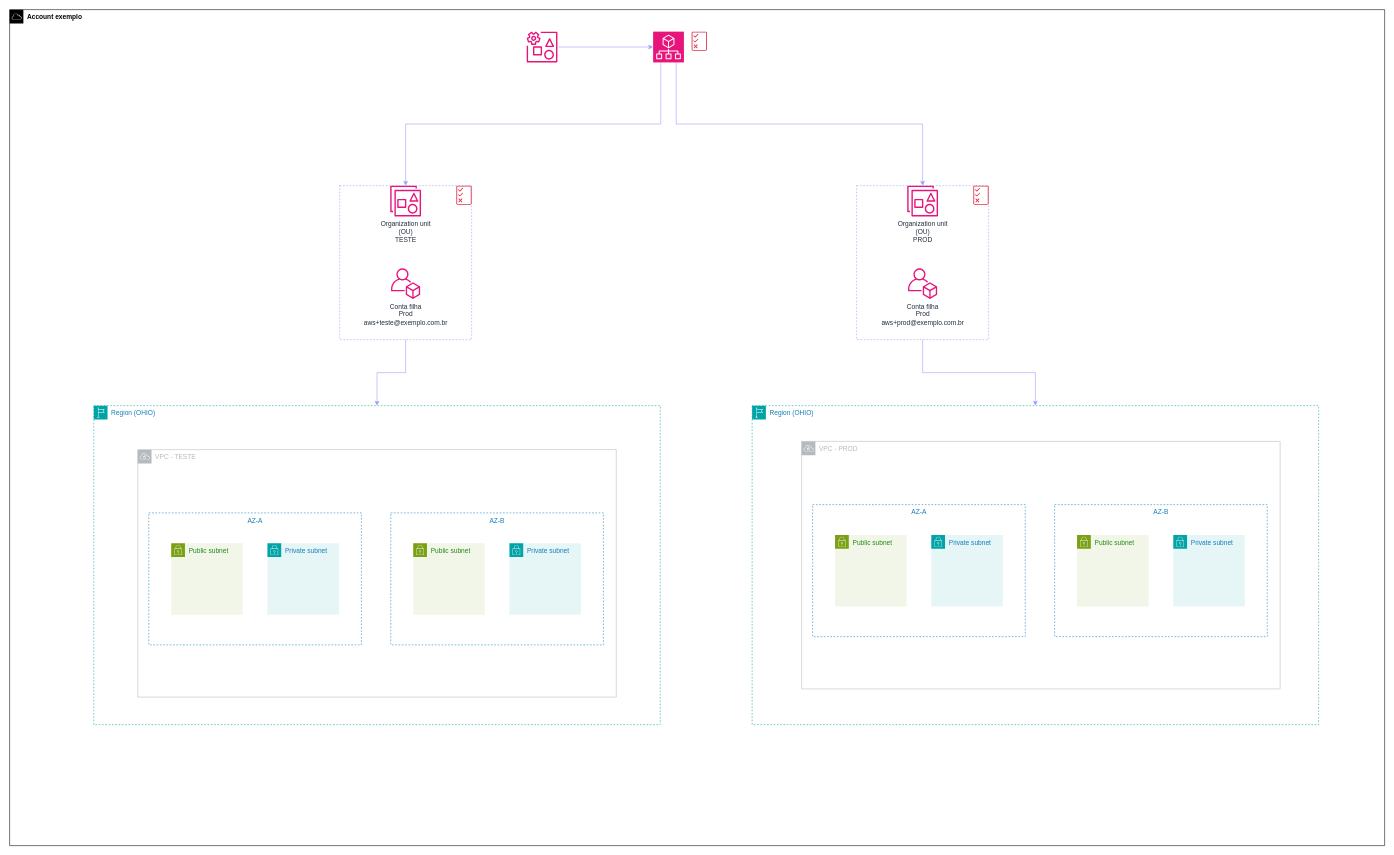
This 1394x855 diagram has some shape labels left out. Each missing label, with the centre of its shape:
"Organization exemplo" belongs at point (668, 46).
"Organizations Management Account (aws@exemplo.com.br)" belongs at point (541, 46).
